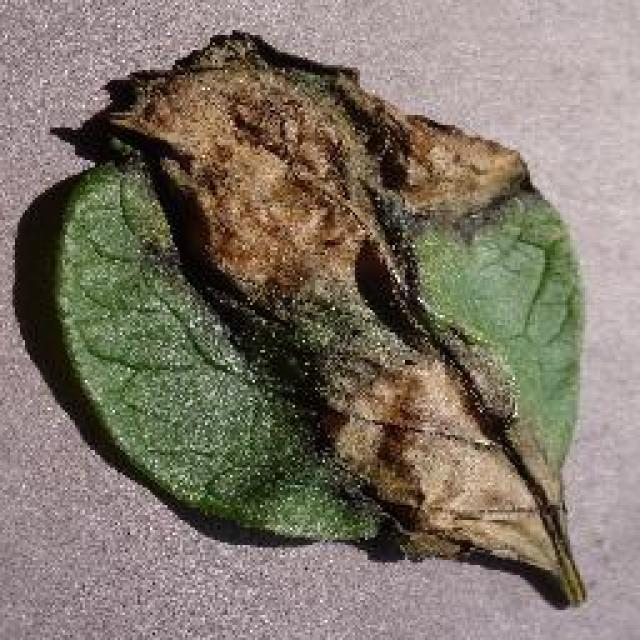late_blight: (92, 25, 590, 607)
